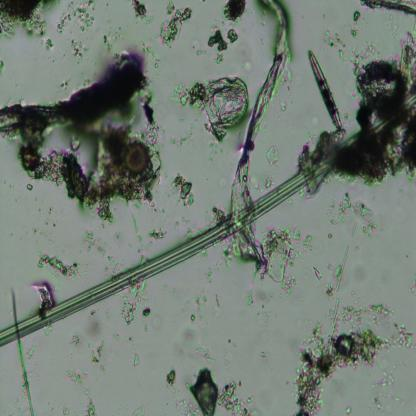Anthropogenic: (0, 100, 416, 351)
Background material: (0, 52, 159, 222), (295, 300, 416, 416), (352, 36, 416, 183), (172, 78, 250, 142), (190, 365, 255, 415), (260, 227, 307, 295), (302, 126, 346, 197), (326, 191, 378, 239), (0, 0, 54, 39), (82, 226, 118, 271), (160, 2, 194, 48), (54, 1, 98, 35), (15, 340, 34, 414), (325, 246, 353, 296), (35, 249, 80, 280), (123, 283, 150, 325), (360, 0, 416, 19), (82, 308, 111, 342), (188, 289, 210, 326), (129, 224, 151, 260), (173, 174, 196, 206), (141, 33, 169, 59), (324, 30, 346, 62), (100, 24, 124, 53), (33, 280, 53, 314), (176, 331, 199, 359), (91, 336, 107, 372), (64, 365, 89, 388), (196, 258, 218, 284), (224, 0, 247, 23), (264, 141, 282, 169), (208, 28, 227, 53), (67, 333, 84, 360), (70, 38, 87, 63), (348, 11, 362, 41), (208, 203, 226, 226), (244, 264, 254, 305), (83, 389, 97, 415), (131, 1, 148, 22), (59, 72, 76, 92), (163, 367, 178, 389), (212, 291, 223, 321), (196, 347, 214, 365), (150, 226, 166, 245), (257, 347, 271, 364), (276, 97, 288, 116), (241, 60, 253, 76), (227, 27, 238, 44), (152, 312, 162, 330), (44, 38, 54, 53), (130, 406, 146, 415), (314, 265, 322, 282), (195, 48, 210, 56), (24, 183, 34, 195), (411, 273, 416, 293), (133, 352, 140, 366), (216, 54, 224, 65), (0, 62, 5, 73)
Cellulose filter fibre: (227, 0, 290, 266)
Diatom: (308, 50, 342, 130), (125, 142, 149, 176)
